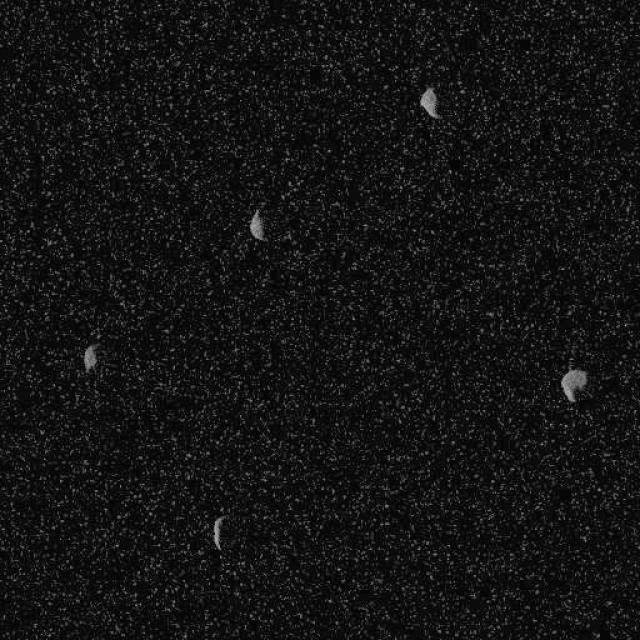D2: (560, 368, 588, 402), (418, 86, 442, 119), (248, 208, 266, 242), (81, 342, 99, 372), (211, 515, 224, 551)
